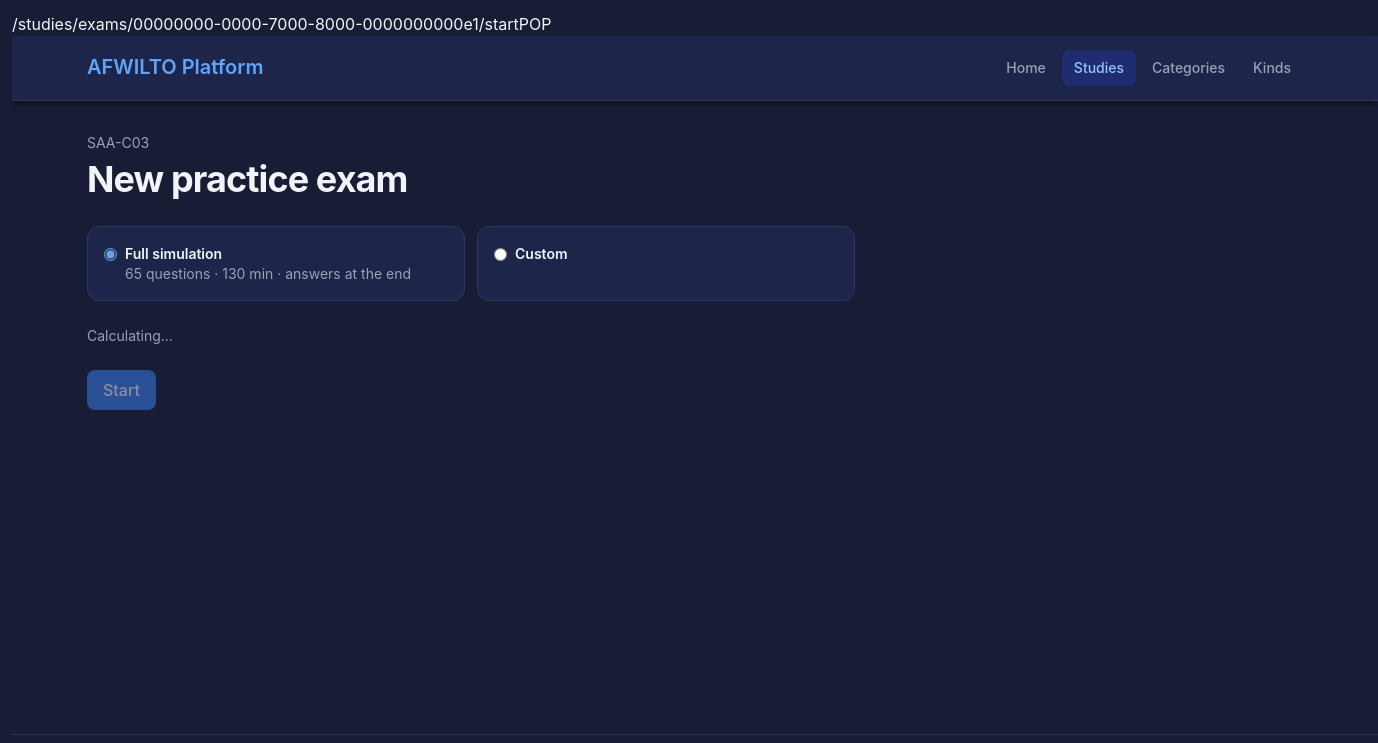
Test: SessionSetupPage: the two modes (FR-7) › by categories: the category choices follow the chosen classification
This screenshot has width=1378, height=743.
Check: the radio button labelled "Full simulation 65 questions · 130 min · answers at the end" is shown, box [104, 248, 117, 261]
Step 1. Click the radio button labelled "Custom" → (500, 254), box [494, 248, 507, 261]
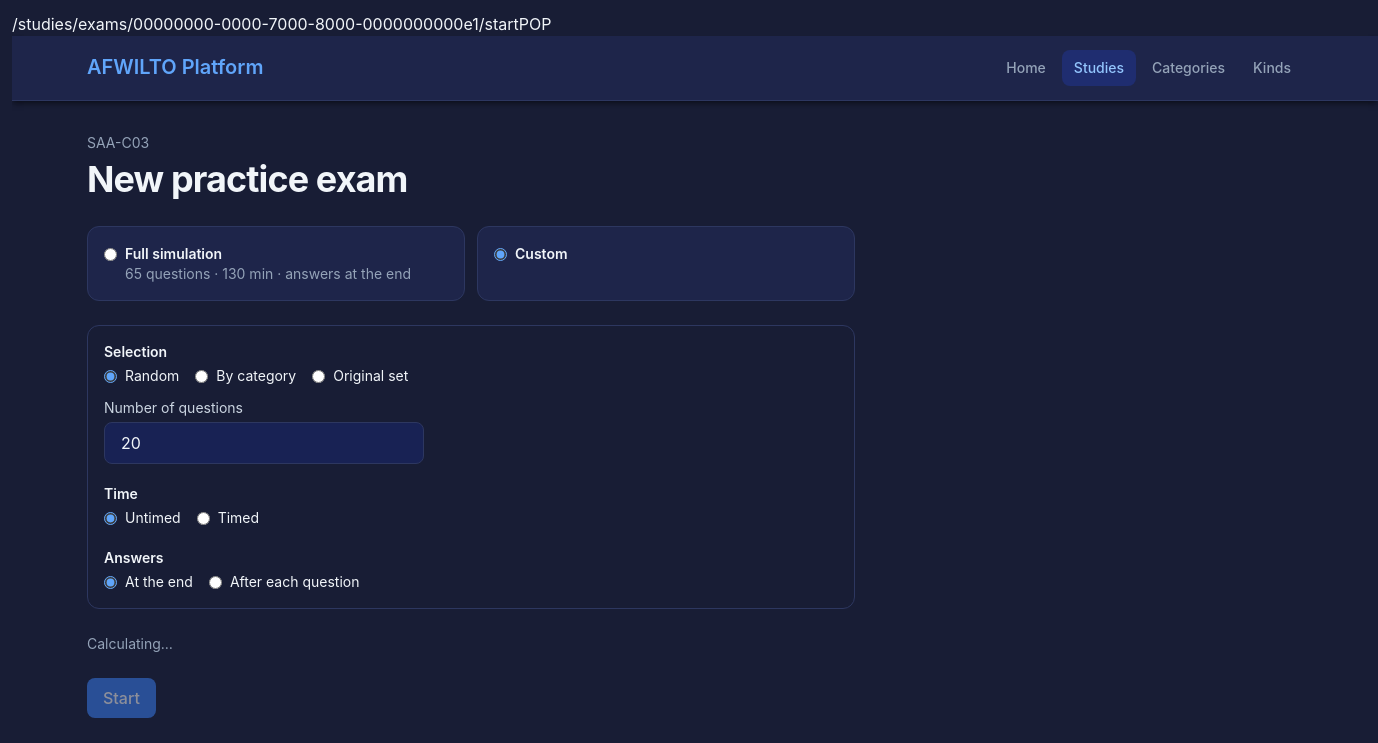
Step 2. Click the radio button labelled "By category" → (202, 376), box [195, 370, 208, 383]
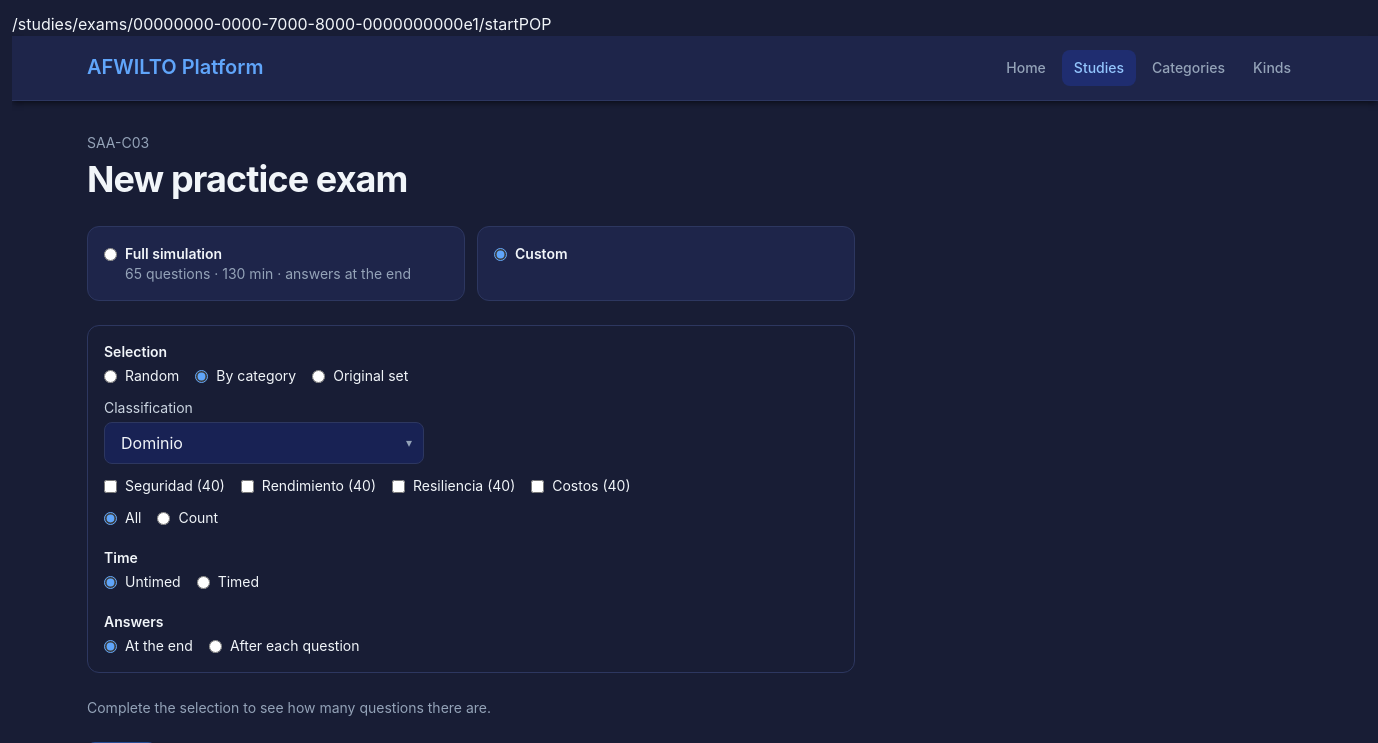
Check: the checkbox labelled "VPC" is not shown
Check: the checkbox labelled "Seguridad (40)" is shown, box [104, 480, 117, 493]
Step 3. Select "Servicio" in the dropdown labelled "Classification" → (264, 443), box [104, 422, 424, 464]
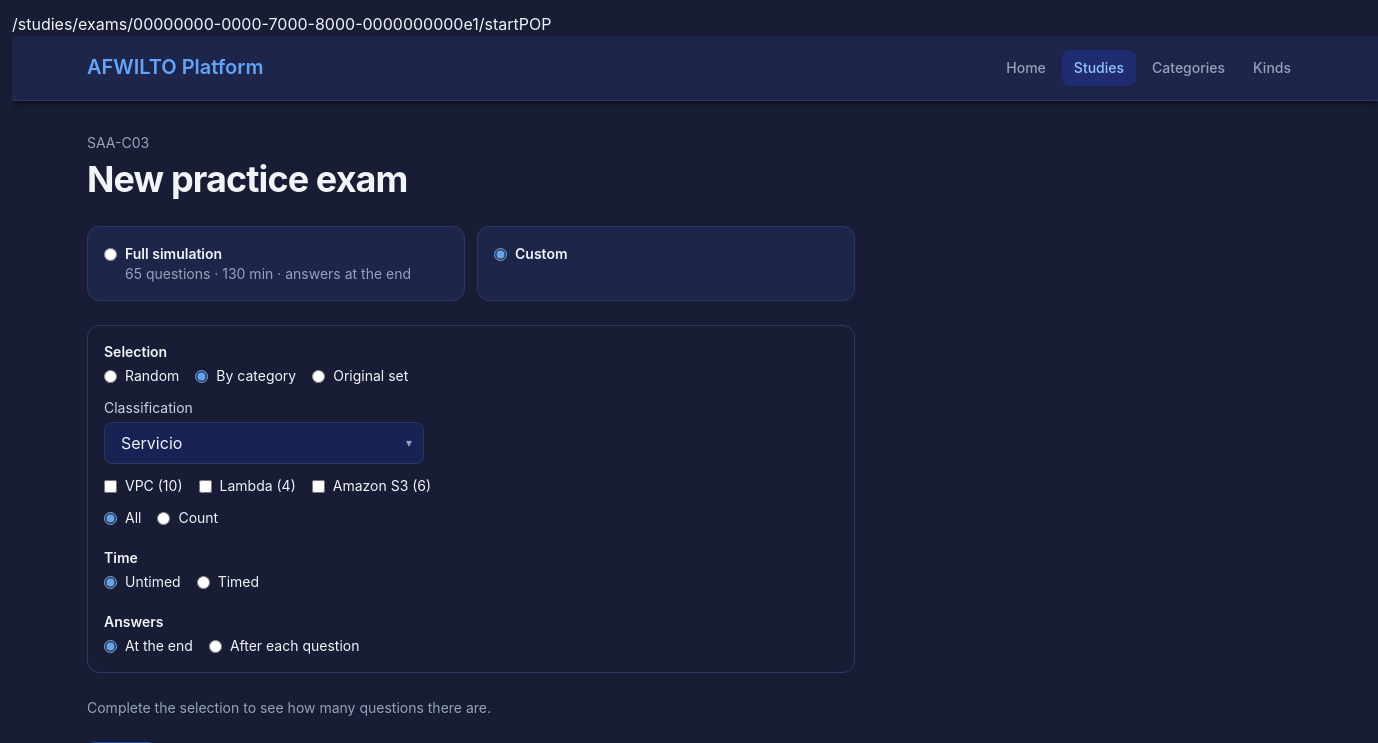
Check: the checkbox labelled "VPC (10)" is shown, box [104, 480, 117, 493]
Check: the text "Seguridad" is gone
